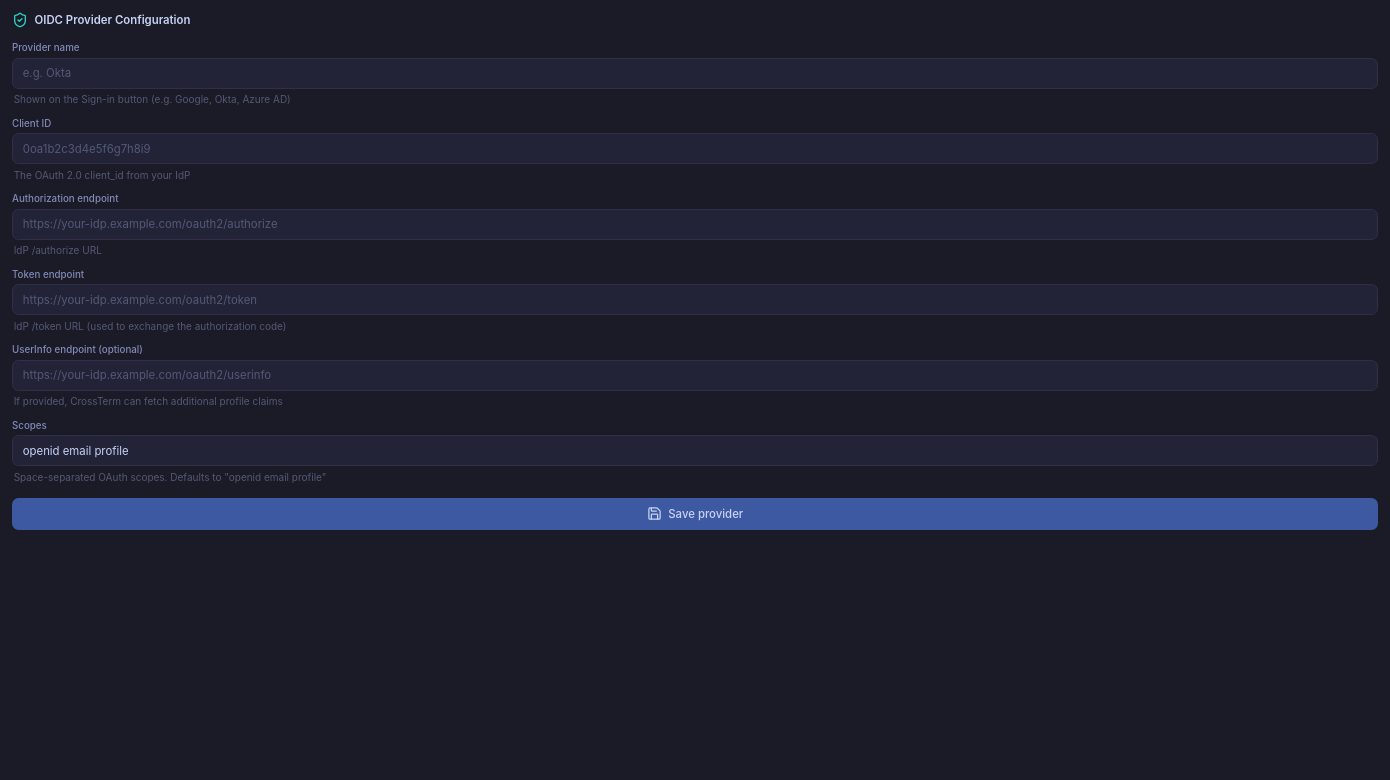
Scenario: SsoConfigForm › validates fields in order: client id, then auth endpoint, then token endpoint
Type "Okta" into the field with placeholder "e.g. Okta" at [695, 73], box [12,58,1378,89]
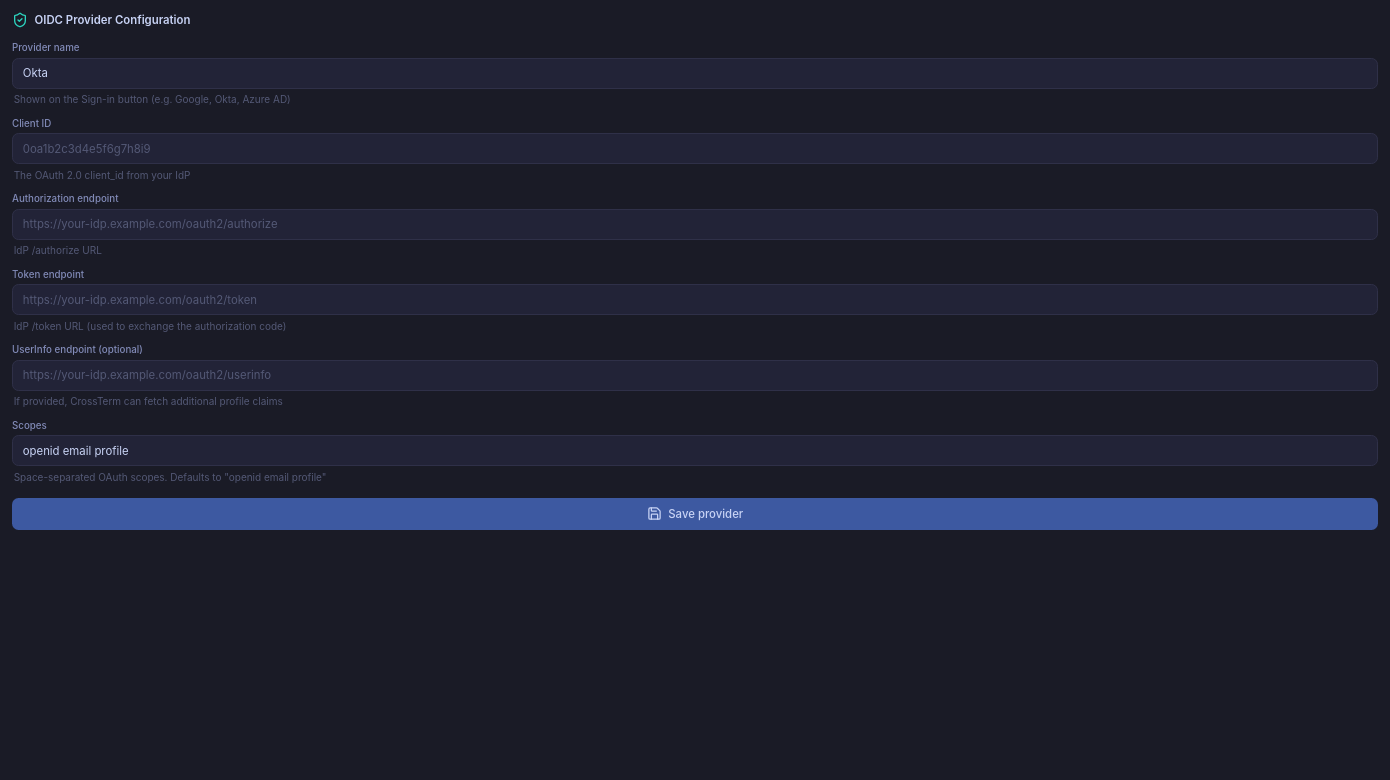
Click the button "Save provider" at [695, 514], box [12,498,1378,530]
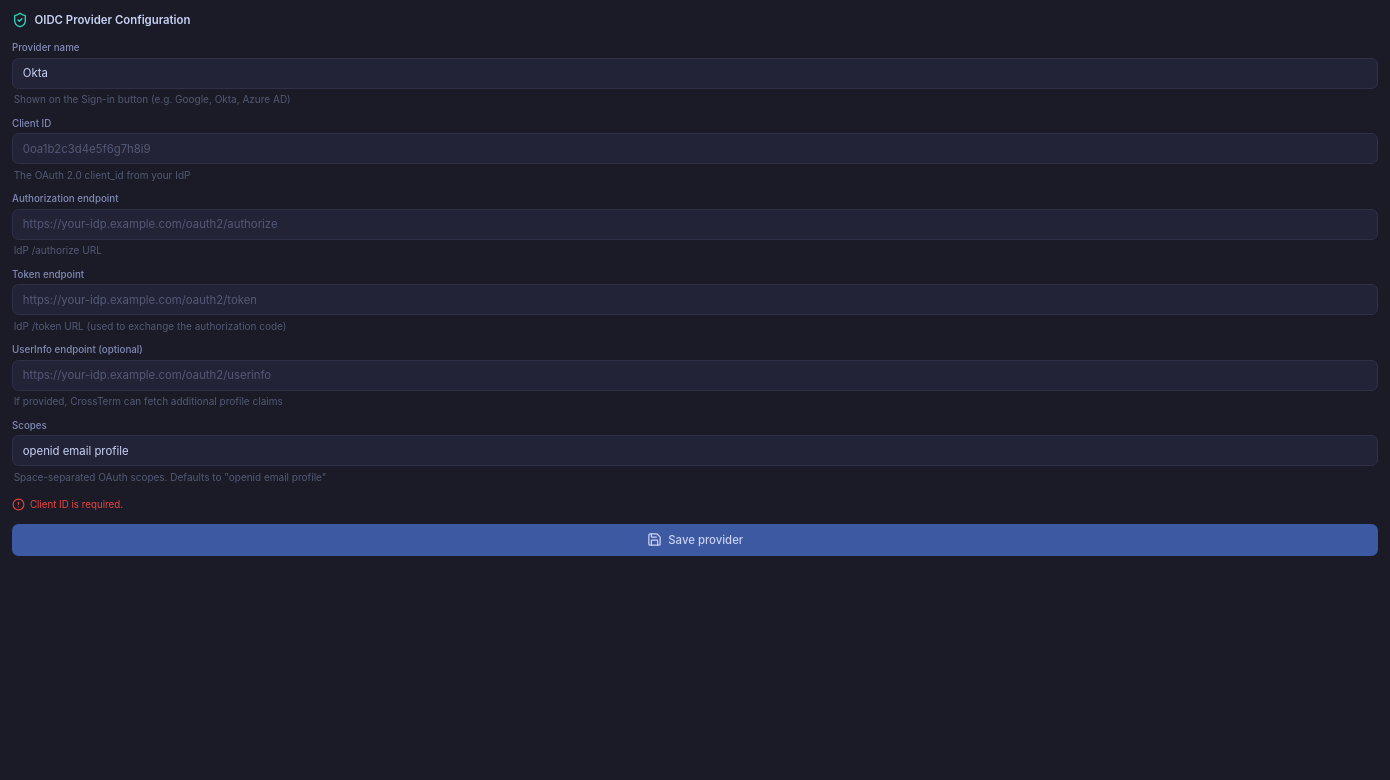
Check: the text "Client ID is required." is shown, box [12,498,123,510]
Type "client-1" into the field with placeholder "0oa1b2c3d4e5f6g7h8i9" at [695, 149], box [12,133,1378,164]
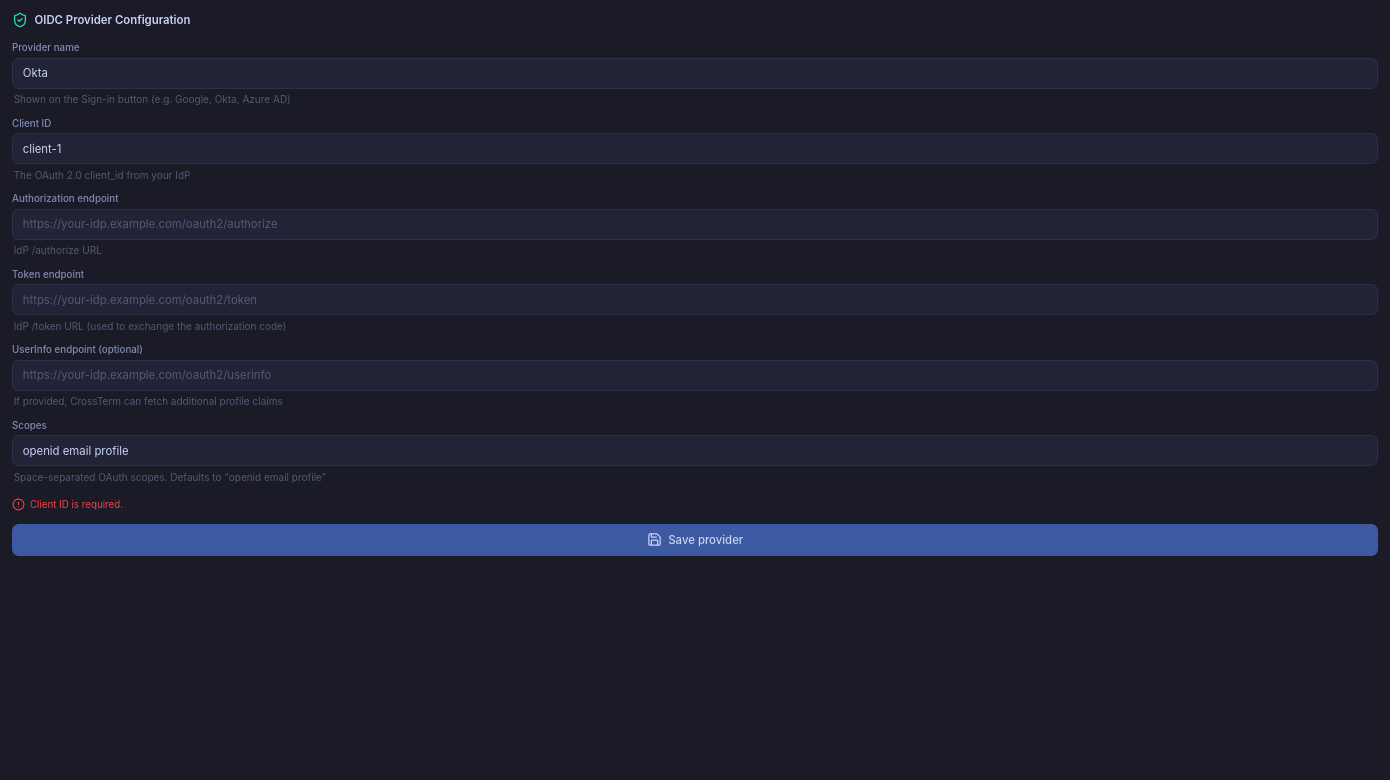
Click the button "Save provider" at [695, 540], box [12,524,1378,556]
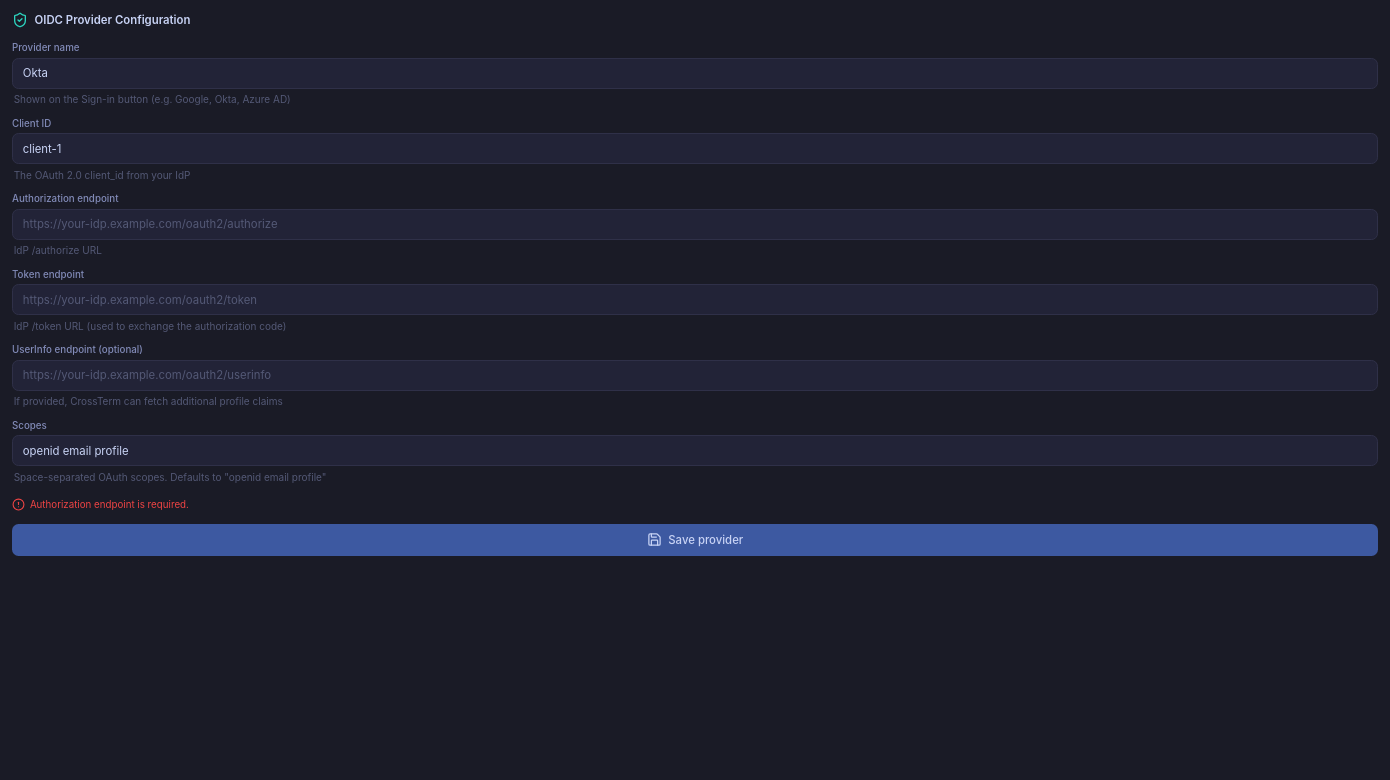
Check: the text "Authorization endpoint is required." is shown, box [12,498,189,510]
Type "https://idp.example.com/authorize" into the field with placeholder "https://your-idp.example.com/oauth2/authorize" at [695, 224], box [12,208,1378,240]
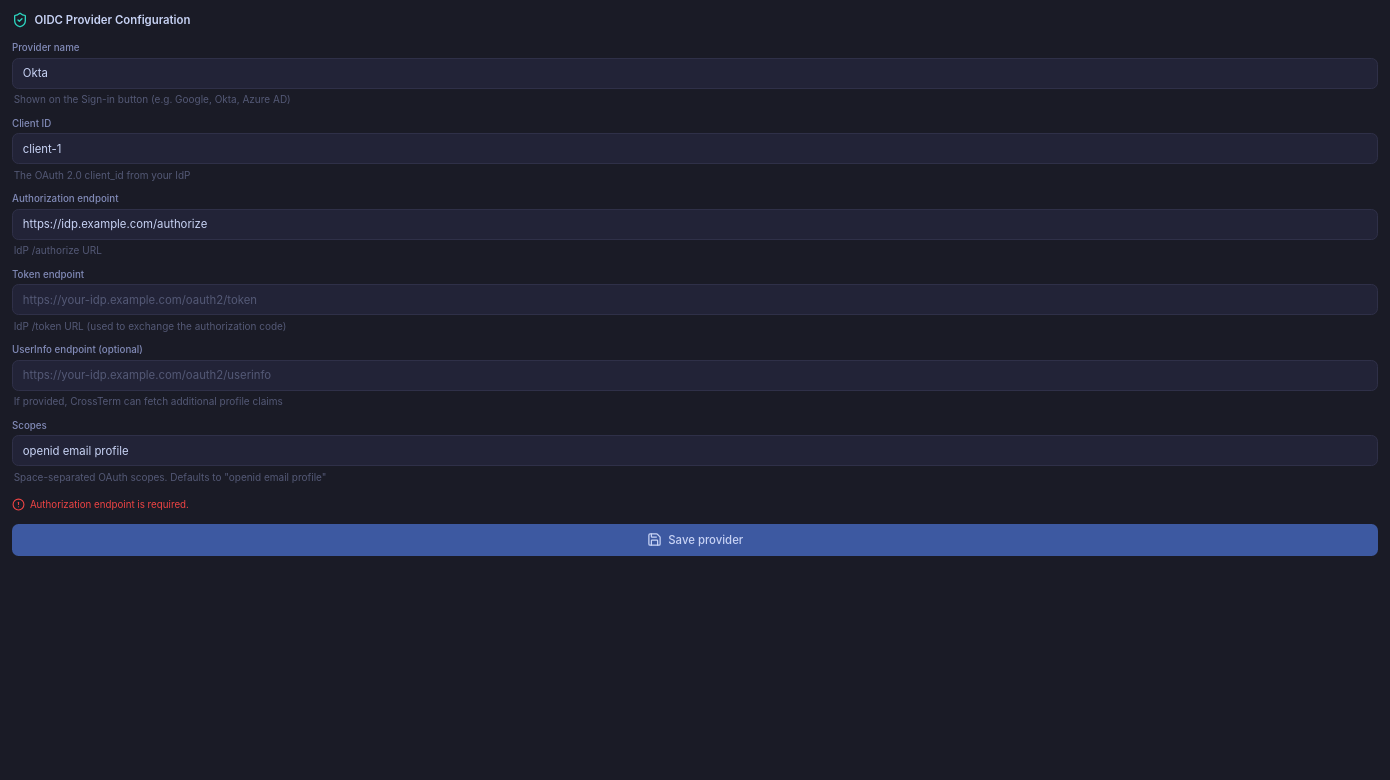
Click the button "Save provider" at [695, 540], box [12,524,1378,556]
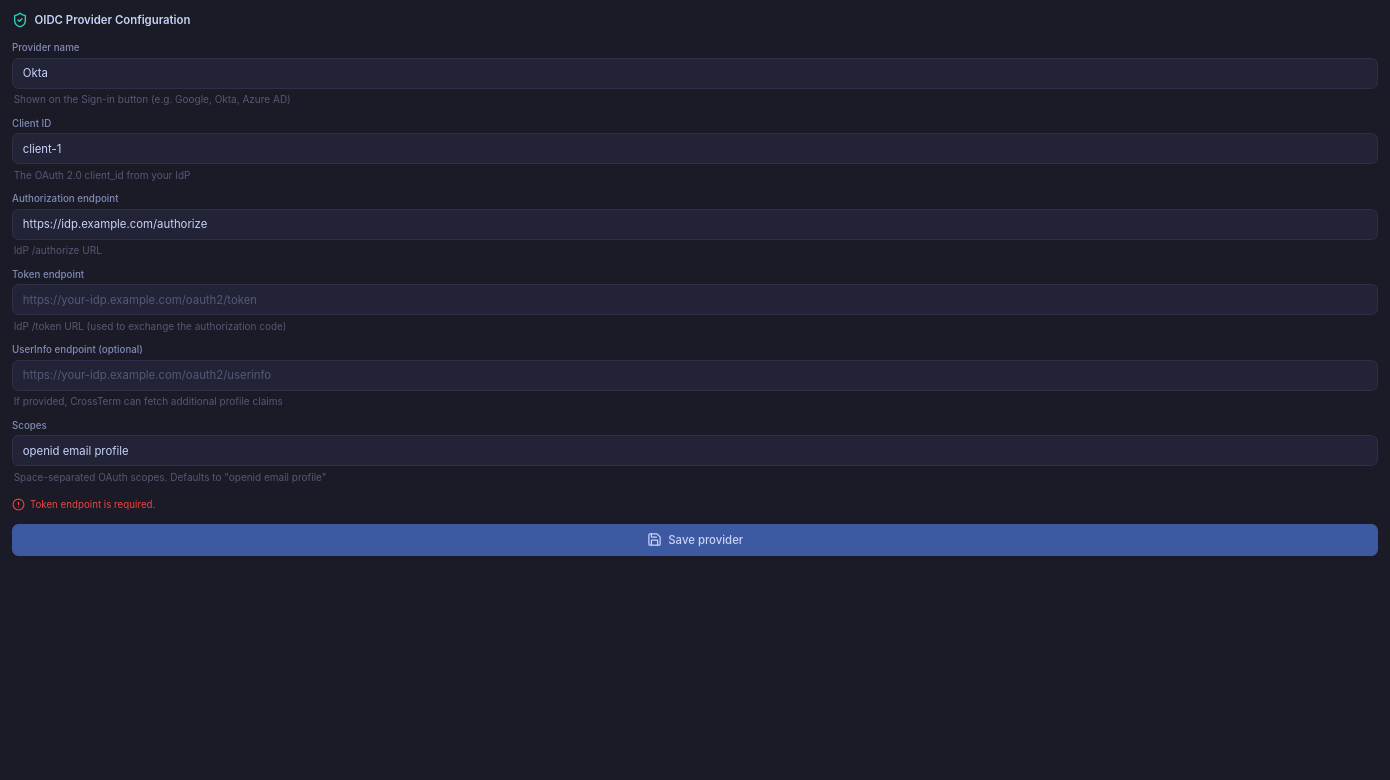
Check: the text "Token endpoint is required." is shown, box [12,498,155,510]
